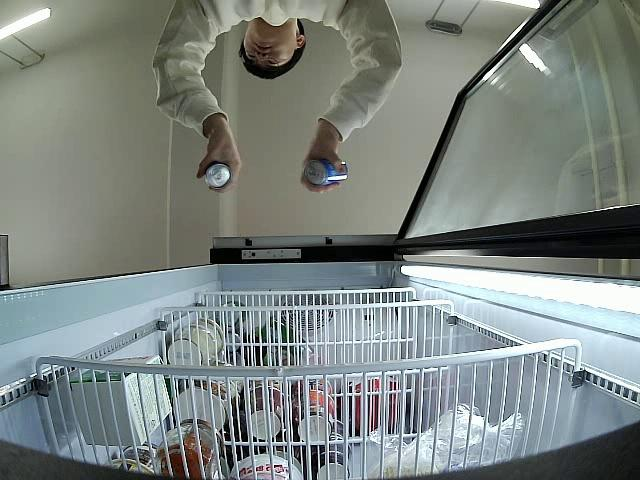00_hand: (299, 137, 345, 196), (195, 135, 241, 193)
15_letsbe: (305, 159, 349, 187)
